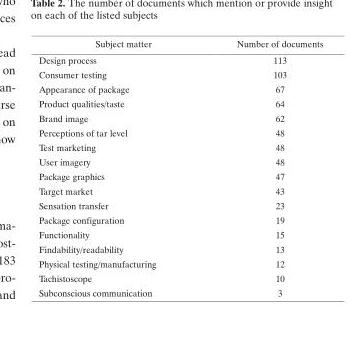table: (37, 37, 322, 297)
table column: (37, 37, 195, 297), (195, 37, 322, 297)
table column header: (37, 37, 322, 51)
table row: (37, 51, 322, 66), (37, 66, 322, 81), (37, 95, 322, 110), (37, 124, 322, 139), (37, 139, 322, 154), (37, 168, 322, 183), (37, 197, 322, 212), (37, 226, 322, 241), (37, 255, 322, 270), (37, 270, 322, 285), (37, 37, 322, 51), (37, 81, 322, 95), (37, 110, 322, 124), (37, 154, 322, 168), (37, 183, 322, 197), (37, 212, 322, 226), (37, 241, 322, 255), (37, 285, 322, 297)
